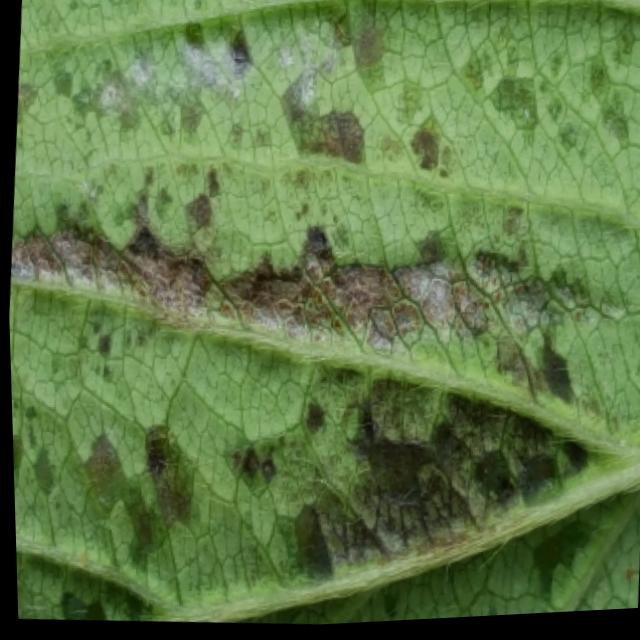Angular Leafspot: (7, 0, 640, 627)
